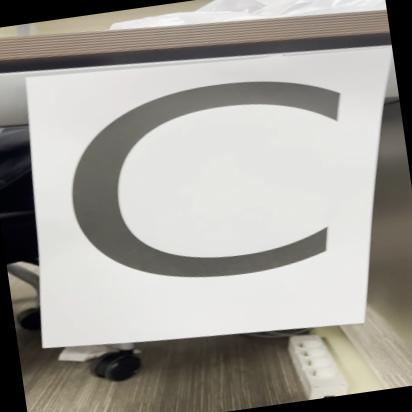seat: (35, 31, 380, 360)
